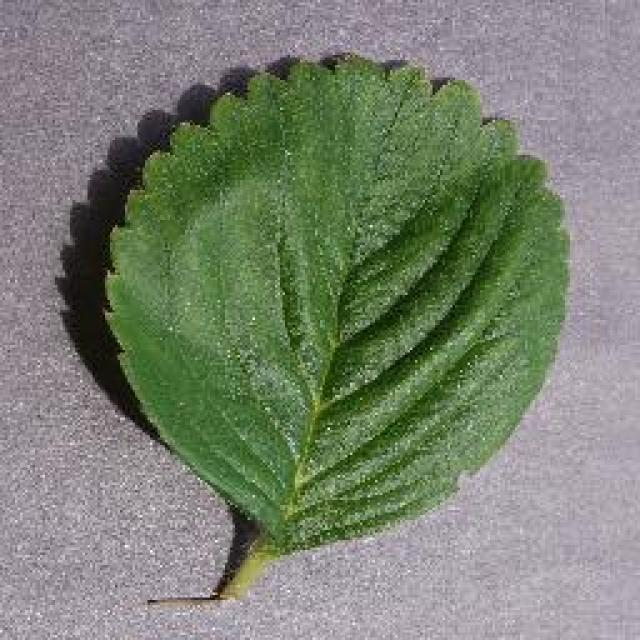Strawberry___healthy: (92, 38, 582, 622)
